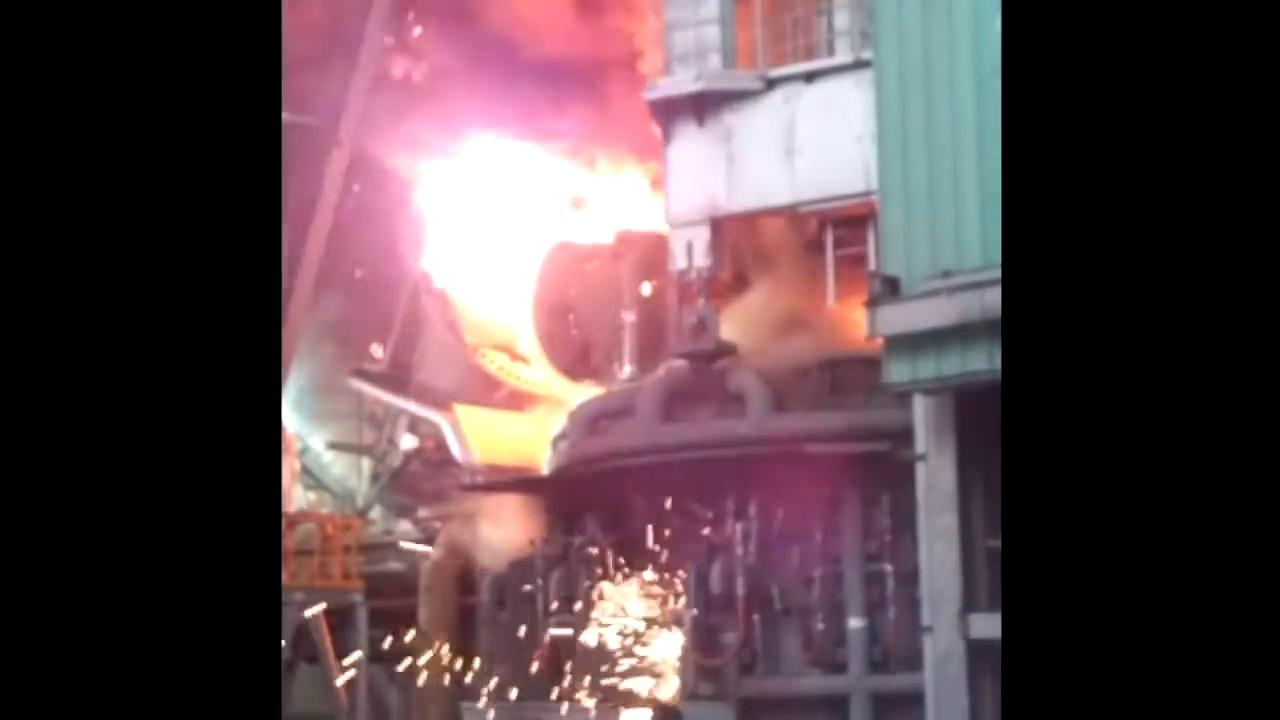fire: (281, 2, 914, 648)
